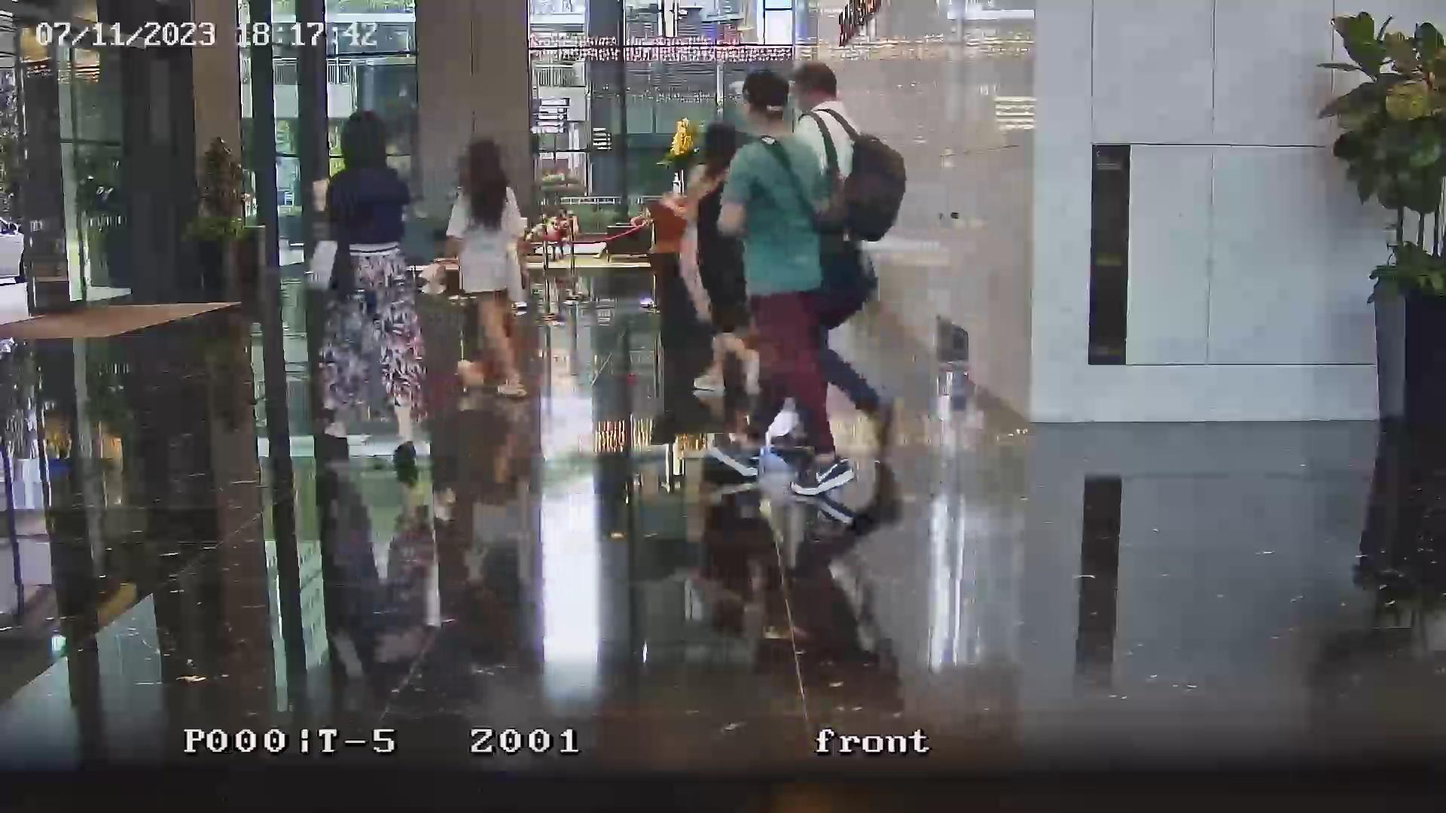person: (718, 68, 857, 504), (317, 111, 418, 434), (657, 123, 759, 395), (441, 137, 530, 400), (551, 205, 570, 261)
